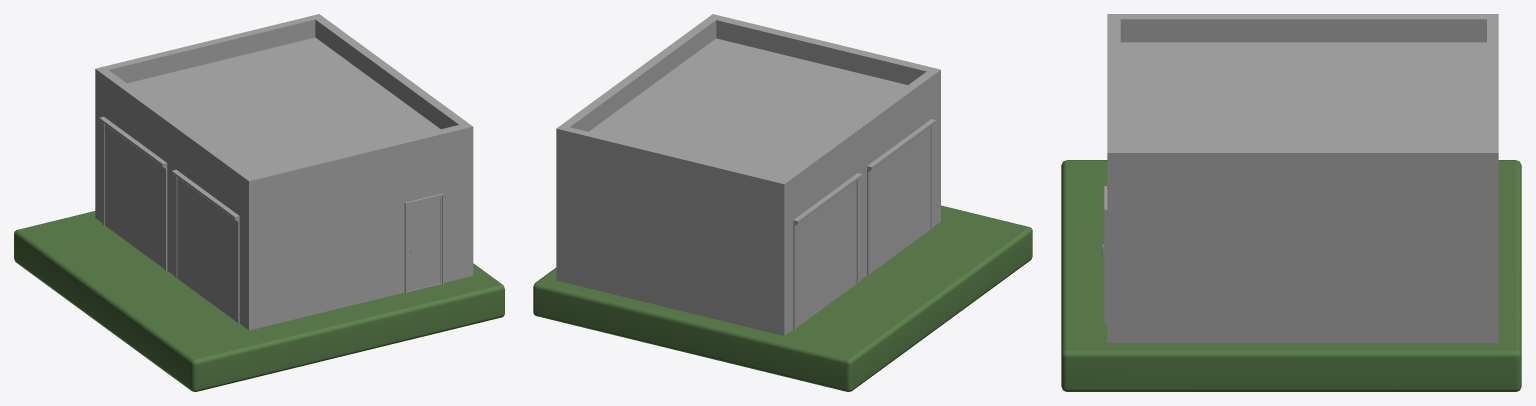
Rendered from Garage_tile.fbx.
3 views of the same model, side by side, from view 1: azimuth 30°, elevation 25°; view 2: azimuth 150°, elevation 25°; view 3: azimuth 270°, elevation 25° (orthographic). The views are drawn at different scales.
Visible parts, largest first — view 1: pCube3; view 2: pCube3; view 3: pCube3.
Boxes of the visible parts, left/top/right/bottom form: pCube3: left=14, top=14, right=504, bottom=391; pCube3: left=533, top=14, right=1032, bottom=391; pCube3: left=1061, top=14, right=1521, bottom=391.
Size of the model in its own units: 100 by 55.48 by 100.
